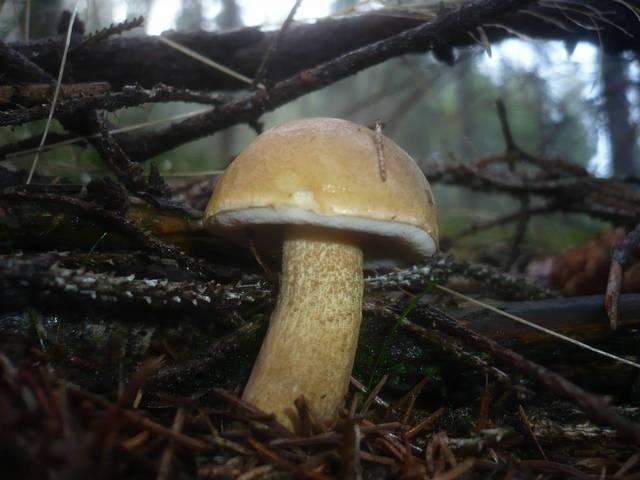Non-edible Mushroom: (200, 114, 440, 436)
